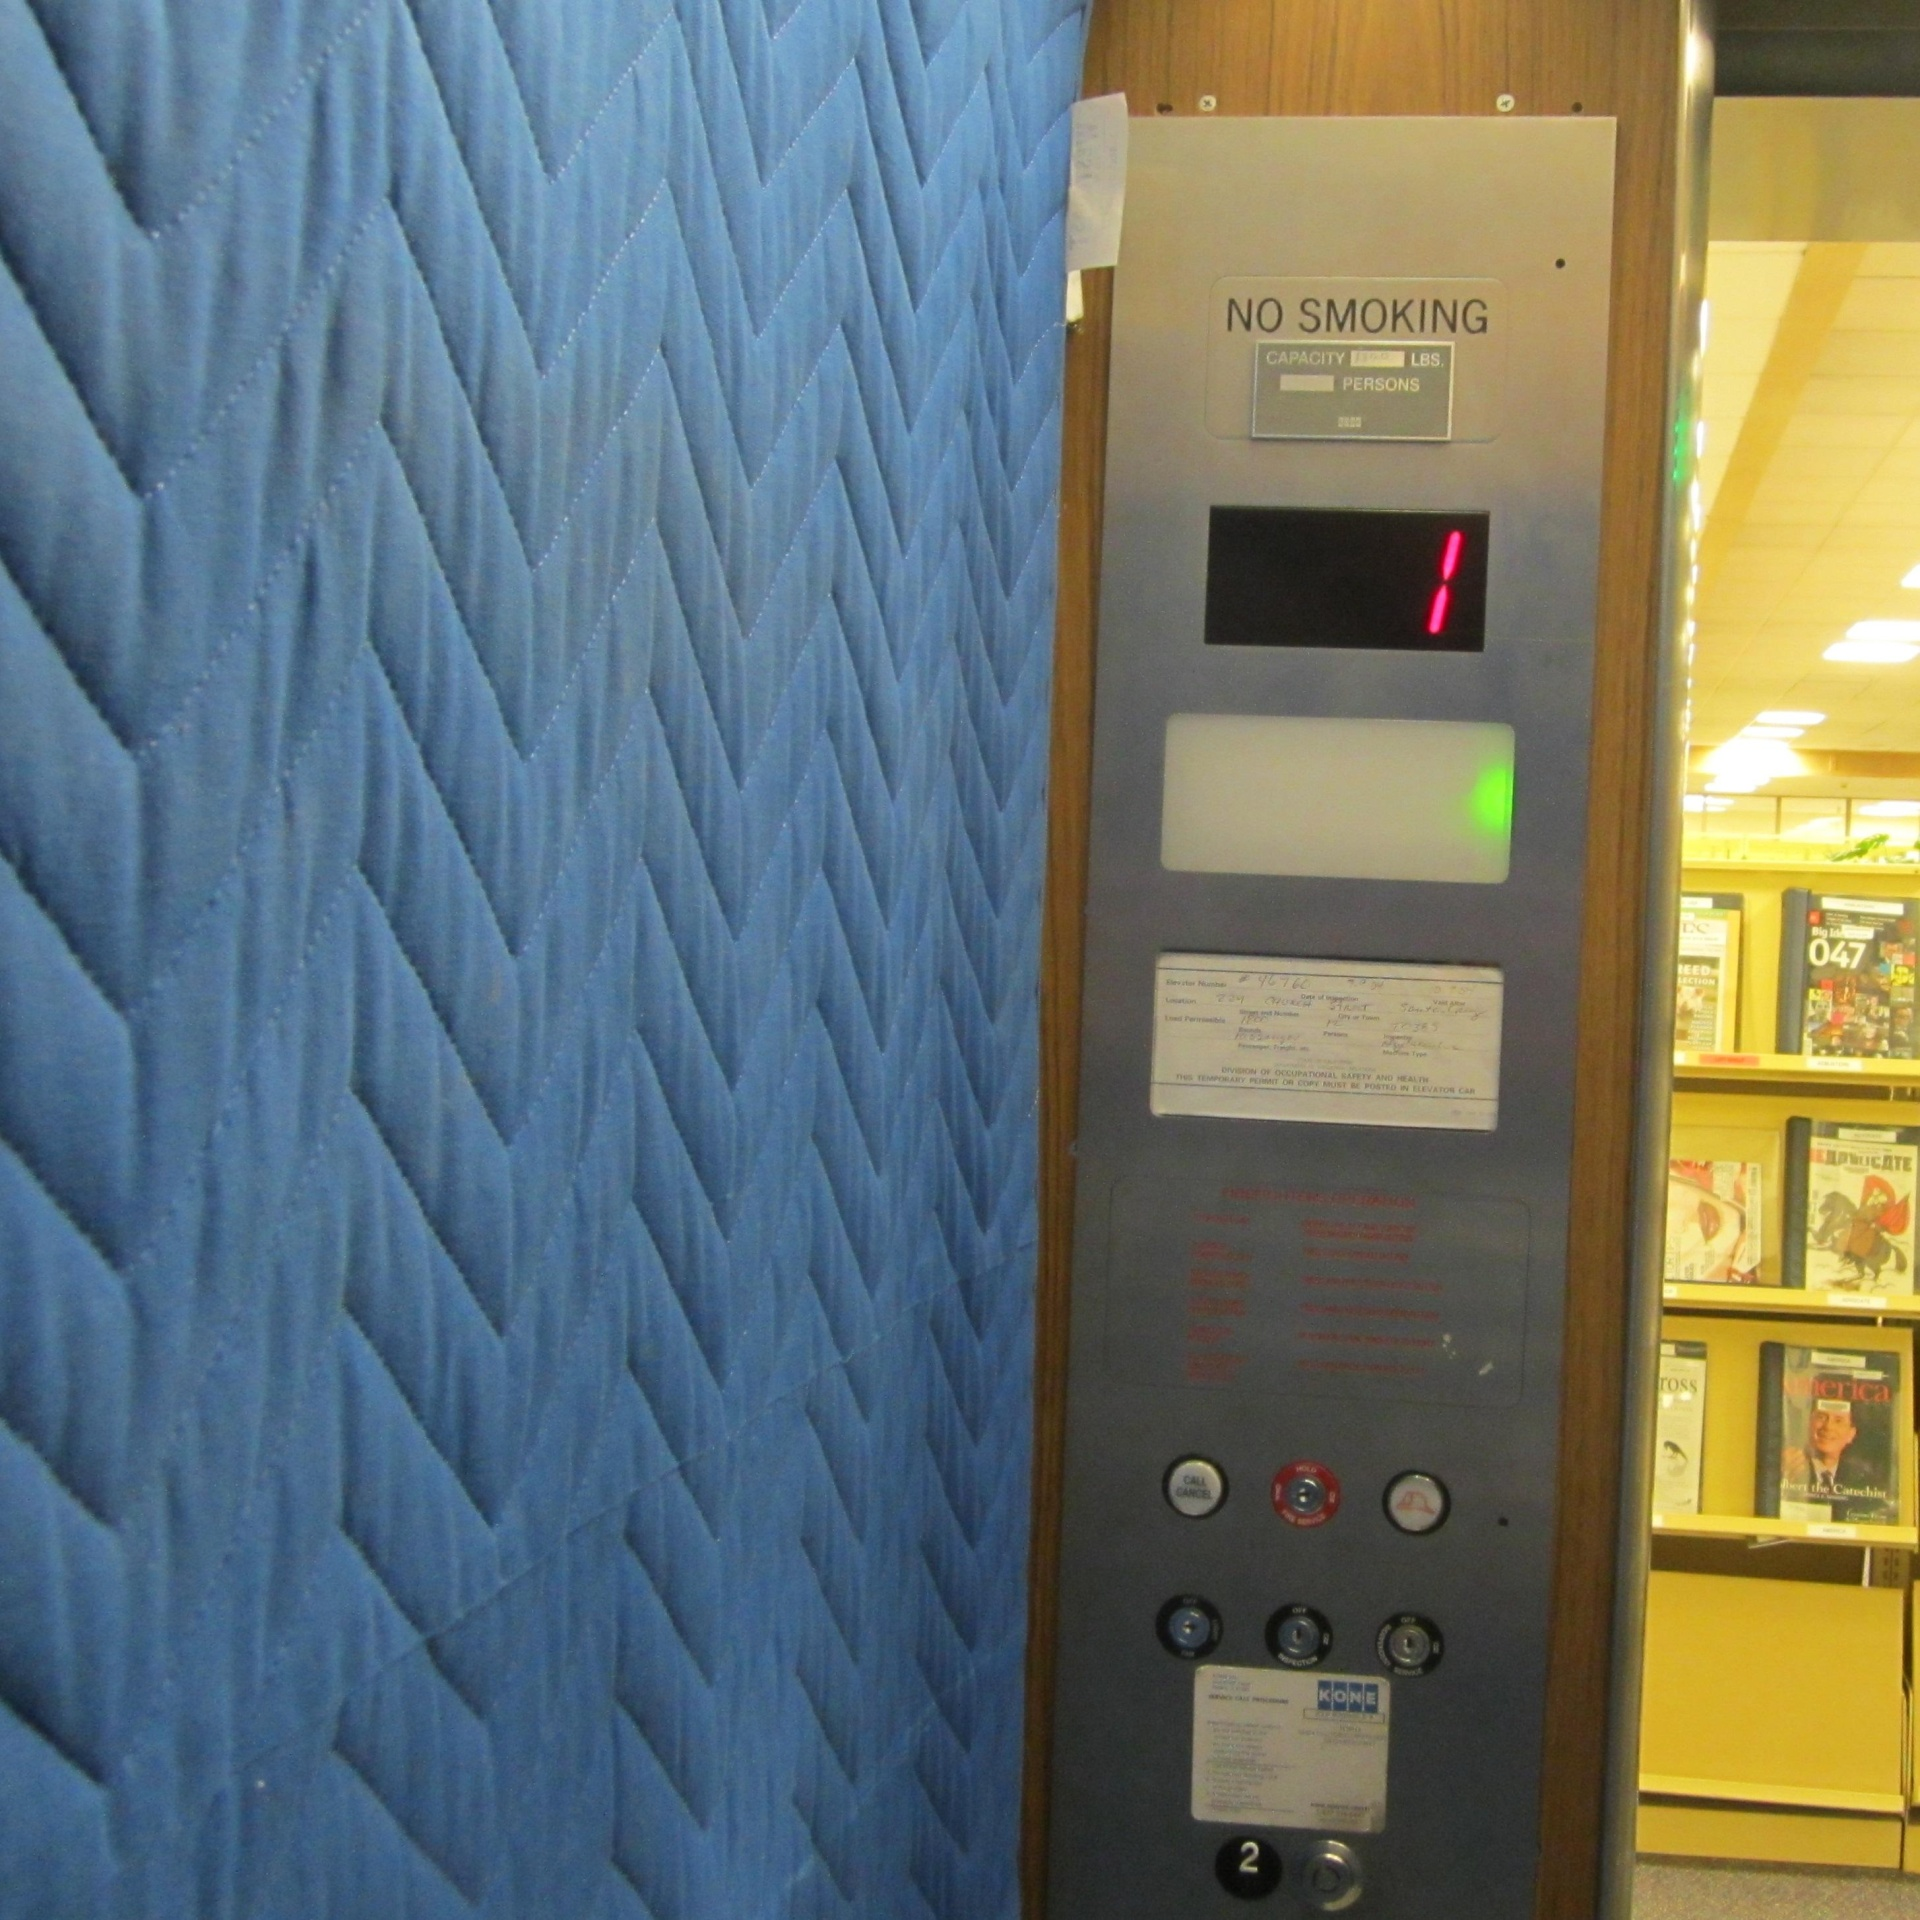2: (1215, 1834, 1284, 1899)
empty: (1289, 1837, 1366, 1911)
keyhole: (1269, 1459, 1342, 1530), (1153, 1591, 1224, 1662), (1373, 1611, 1445, 1679), (1264, 1602, 1335, 1669)
led: (1204, 506, 1487, 654)
text: (1160, 1454, 1231, 1519)
unknown: (1384, 1468, 1452, 1538)
